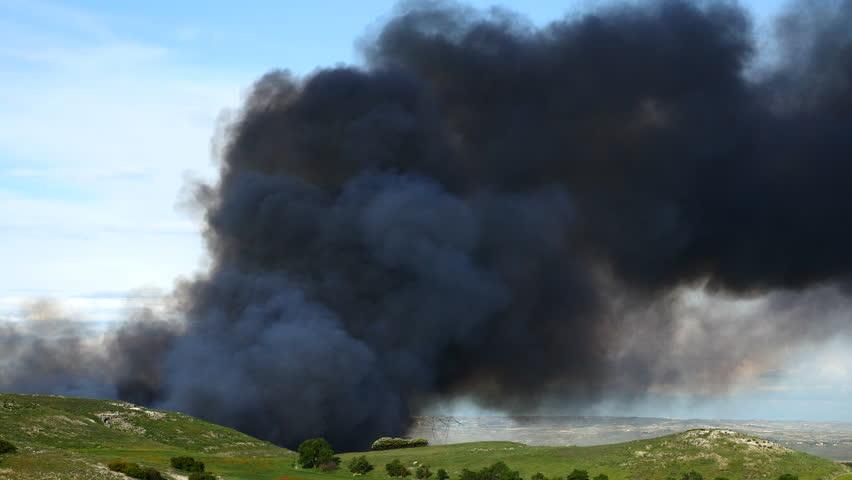smoke: (266, 125, 609, 289), (669, 304, 826, 404)
